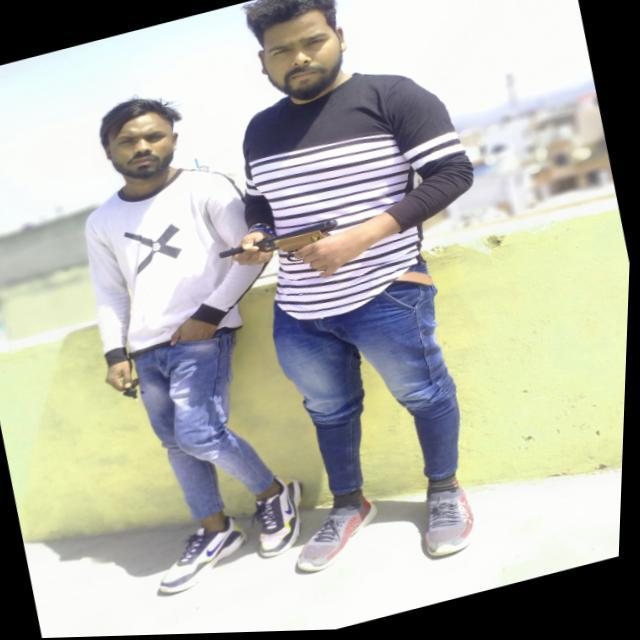weapon: (215, 214, 358, 302)
